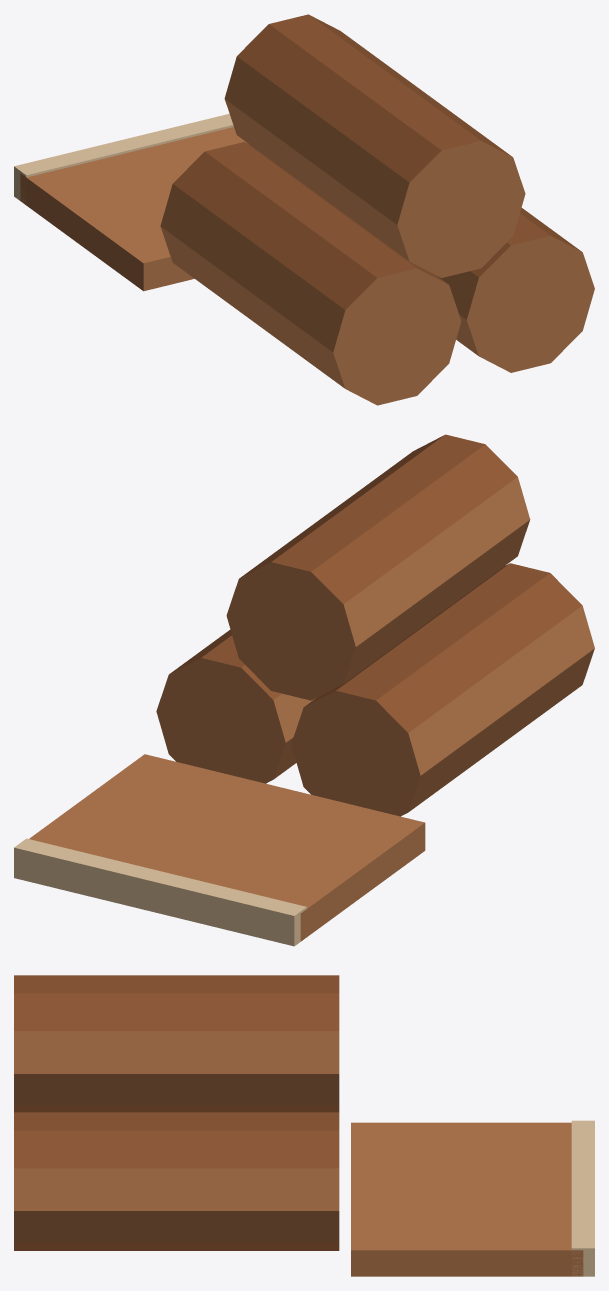
File: alpaca-textile.glb
The picture shows the model from 3 angles, top to bottom: view 1: azimuth 30°, elevation 25°; view 2: azimuth 150°, elevation 25°; view 3: azimuth 270°, elevation 25°; orthographic projection. The views are drawn at different scales.
Parts seen in each view (by area): view 1: alpaca-textile; view 2: alpaca-textile; view 3: alpaca-textile.
Part boxes in pixels (<box>): alpaca-textile: <box>14,14,594,405</box>; alpaca-textile: <box>14,434,594,946</box>; alpaca-textile: <box>14,975,594,1276</box>.
Size of the model in its own units: 0.26 by 0.2171 by 0.5.
1 material, 1 textured.
